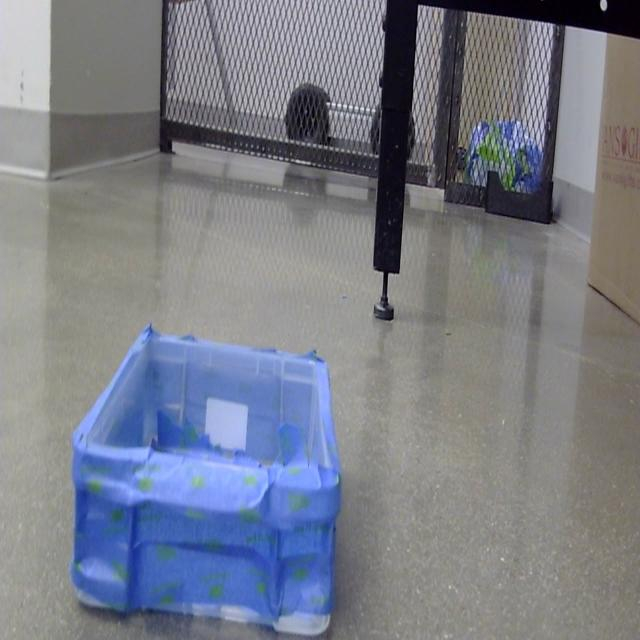bucket: (70, 326, 342, 640)
